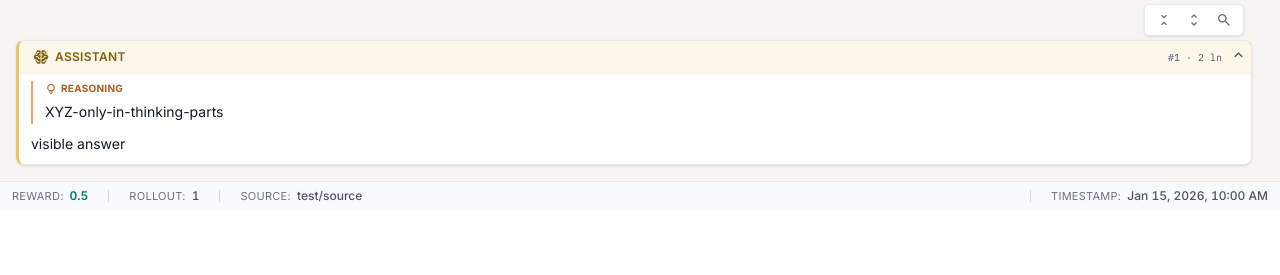
Test: ChatView local search corpus › finds text inside content_parts.thinking when message.content is empty
Step 1. Click the button named "Search chat" → {"x": 1224, "y": 20}, box [1211,7,1237,33]
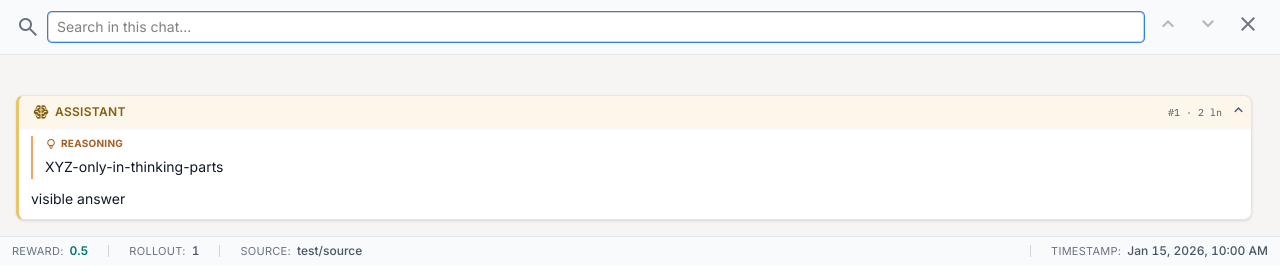
Step 2. Type "XYZ-only-in-thinking-parts" into the field with placeholder "Search in this chat..." → {"x": 596, "y": 27}, box [48,12,1144,42]
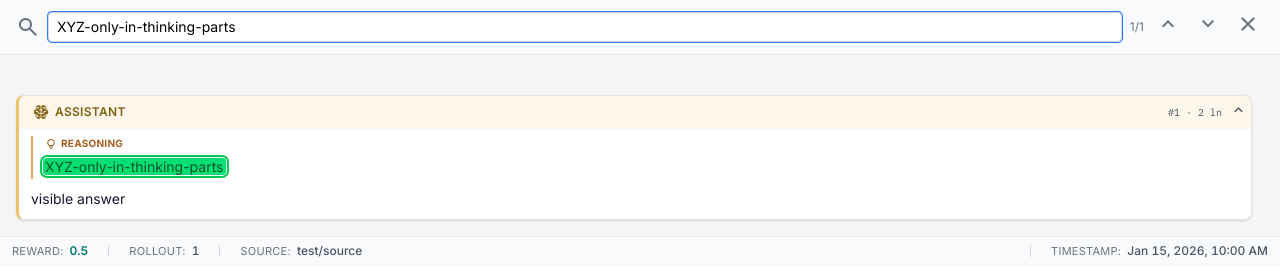
Expected: the text "1/1" is shown, [1130,19,1144,35]
